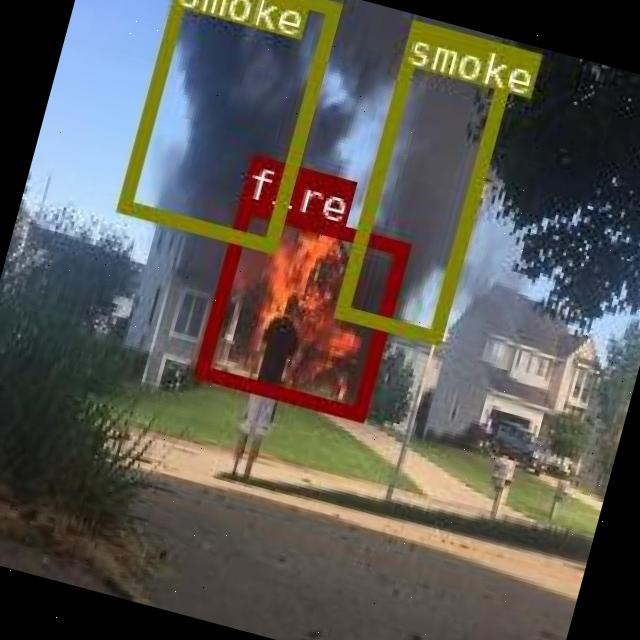fire: (192, 195, 410, 419)
smoke: (331, 17, 516, 342), (114, 0, 339, 249)
